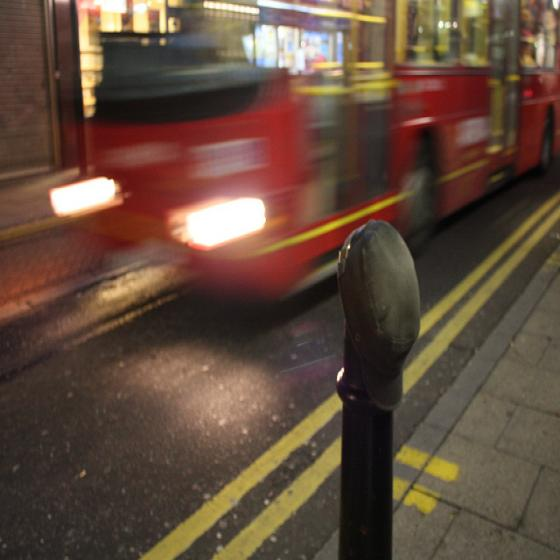bus: (81, 2, 559, 304)
